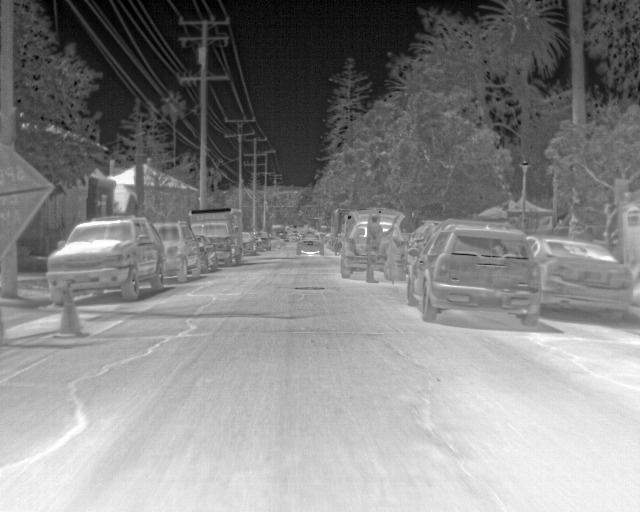bicycle: (401, 221, 544, 327), (46, 216, 165, 308), (520, 233, 634, 317), (153, 221, 205, 286), (339, 211, 368, 278), (293, 232, 326, 258), (241, 228, 258, 255), (254, 233, 271, 252)
empty: (364, 210, 387, 284)
